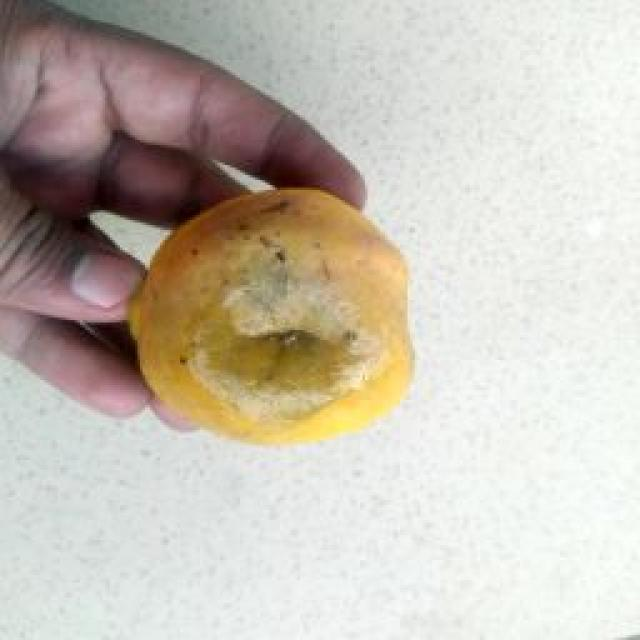Bad_Orange: (129, 189, 411, 443)
